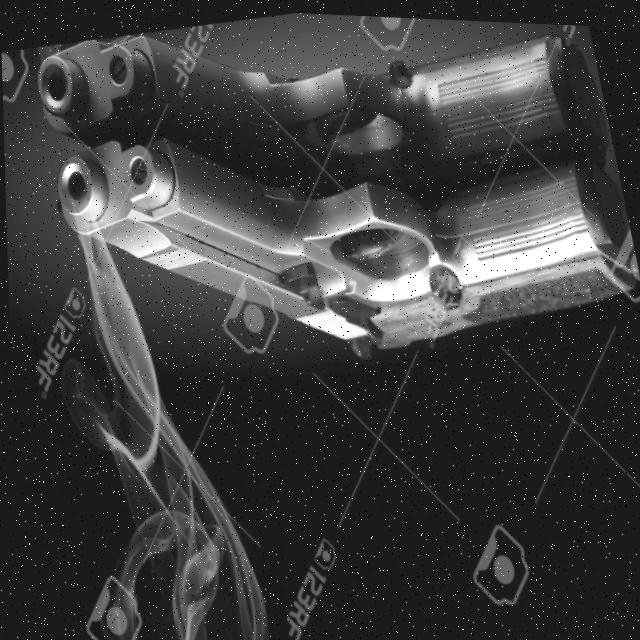pistol: (40, 48, 640, 409), (27, 1, 620, 263)
